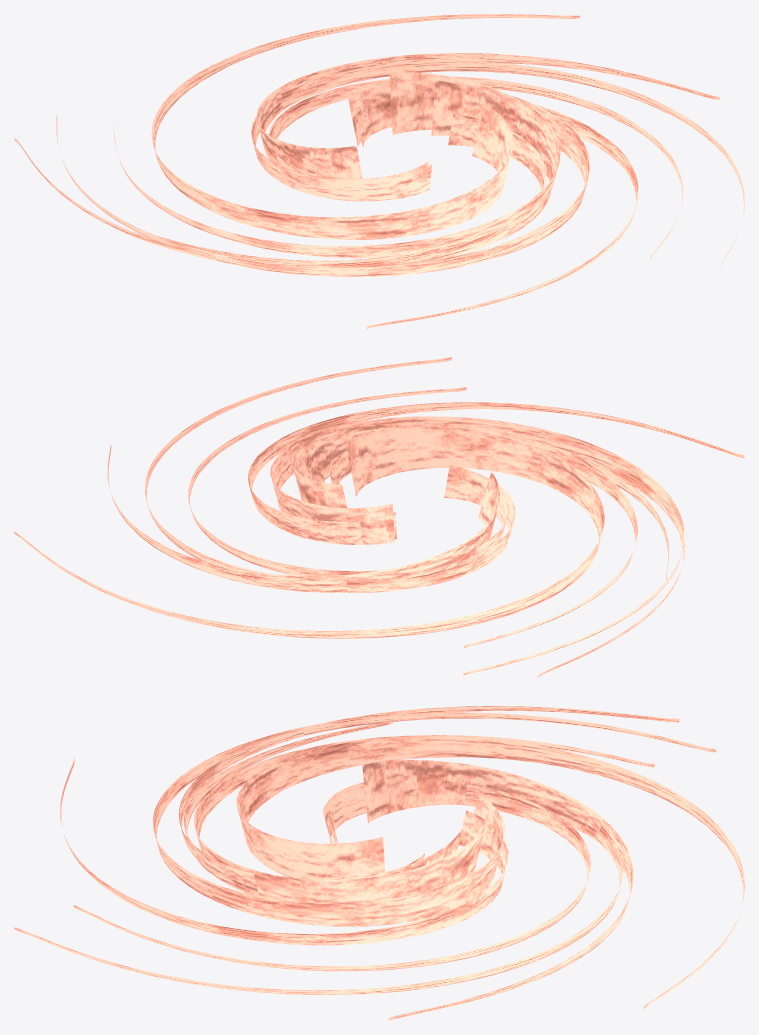
Rendered from devil_streamers.glb.
3 renders of one model, top to bottom at view 1: azimuth 30°, elevation 25°; view 2: azimuth 150°, elevation 25°; view 3: azimuth 270°, elevation 25°, orthographic. The views are drawn at different scales.
Visible parts, largest first — view 1: devil_streamers; view 2: devil_streamers; view 3: devil_streamers.
Part boxes in pixels (x1=…): devil_streamers: x1=14, y1=14, x2=744, y2=328; devil_streamers: x1=14, y1=357, x2=744, y2=677; devil_streamers: x1=14, y1=706, x2=744, y2=1020.
Size of the model in its own units: 31.91 by 3.19 by 31.73.
Materials: 1 (1 with a texture image).
